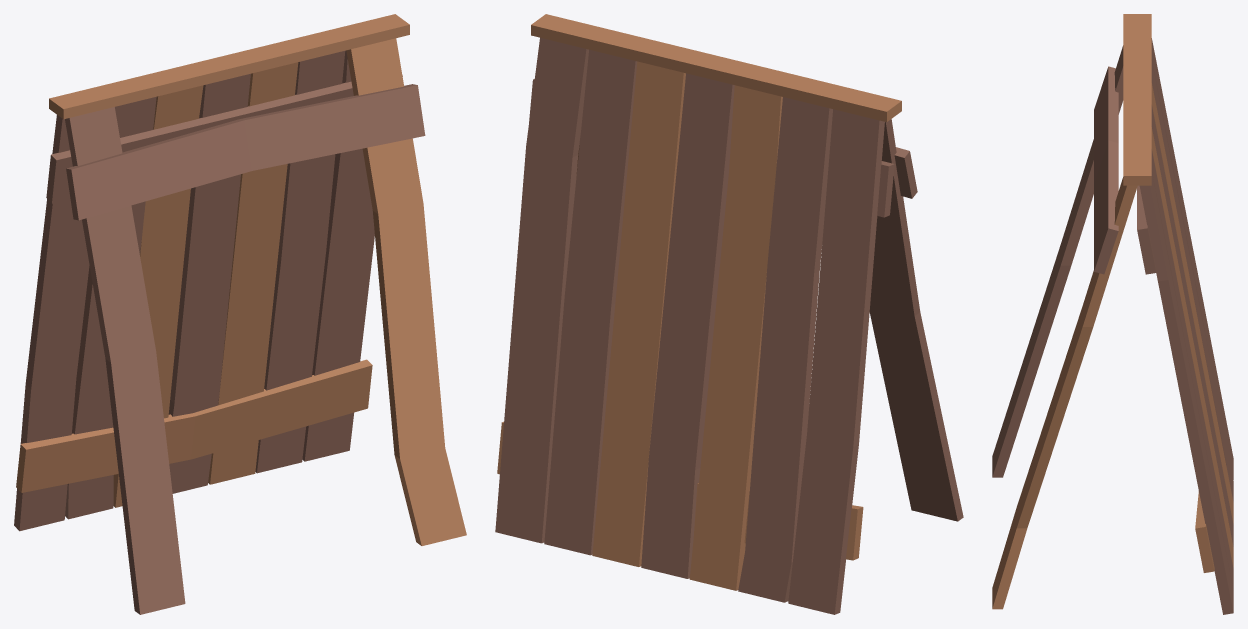
Rendered from Barricade.fbx.
3 renders of one model, left to right at view 1: azimuth 30°, elevation 25°; view 2: azimuth 150°, elevation 25°; view 3: azimuth 270°, elevation 25°, orthographic. The views are drawn at different scales.
Visible parts, largest first — view 1: Cube; view 2: Cube; view 3: Cube.
Boxes of the visible parts, <box> form: Cube: <box>14,14,466,614</box>; Cube: <box>495,14,963,614</box>; Cube: <box>992,14,1233,614</box>.
Size of the model in its own units: 252 by 321 by 159.
